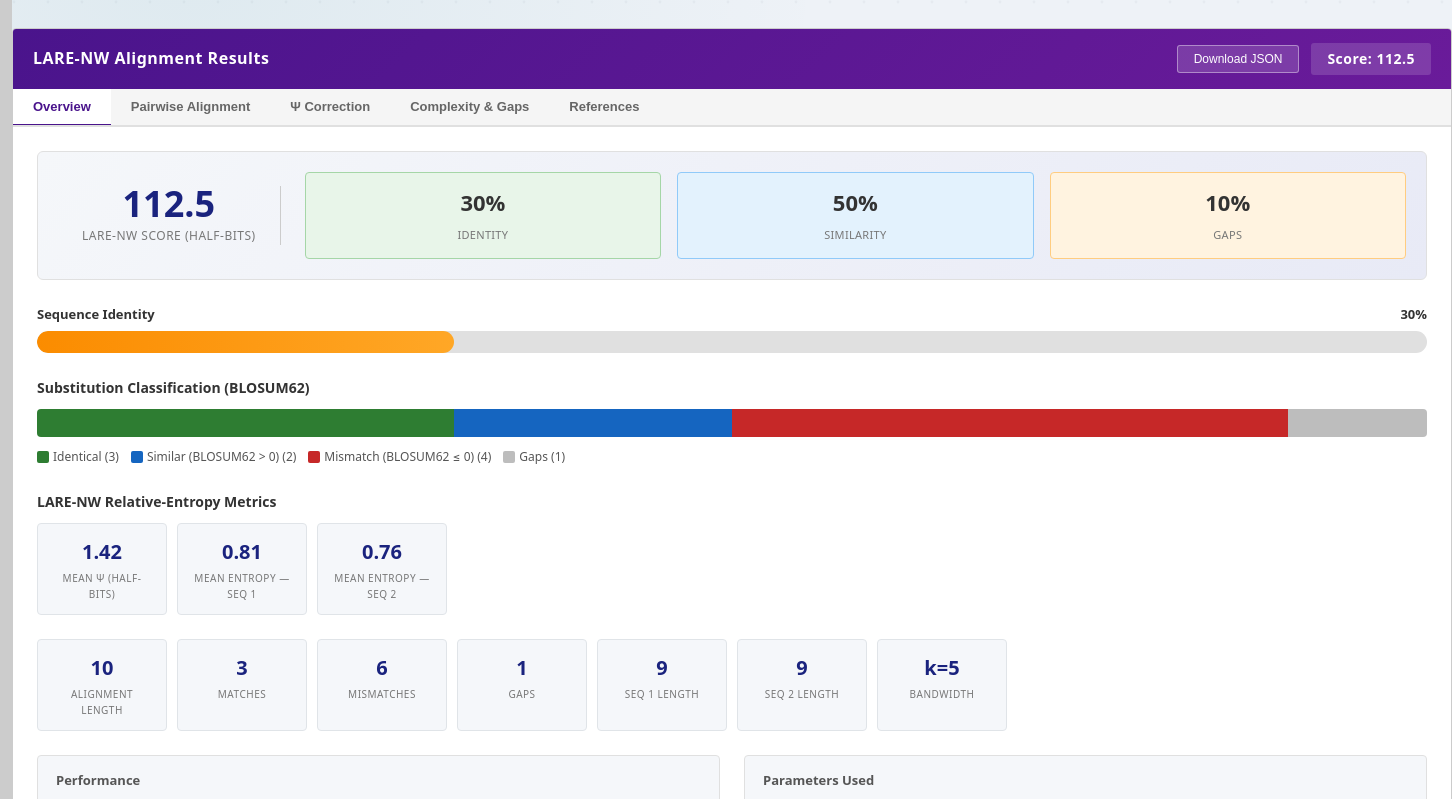
Test: AlignmentResults › switches to the Ψ Correction tab
Step 1. Click the button "Ψ Correction" → (330, 108), box [270,89,390,127]
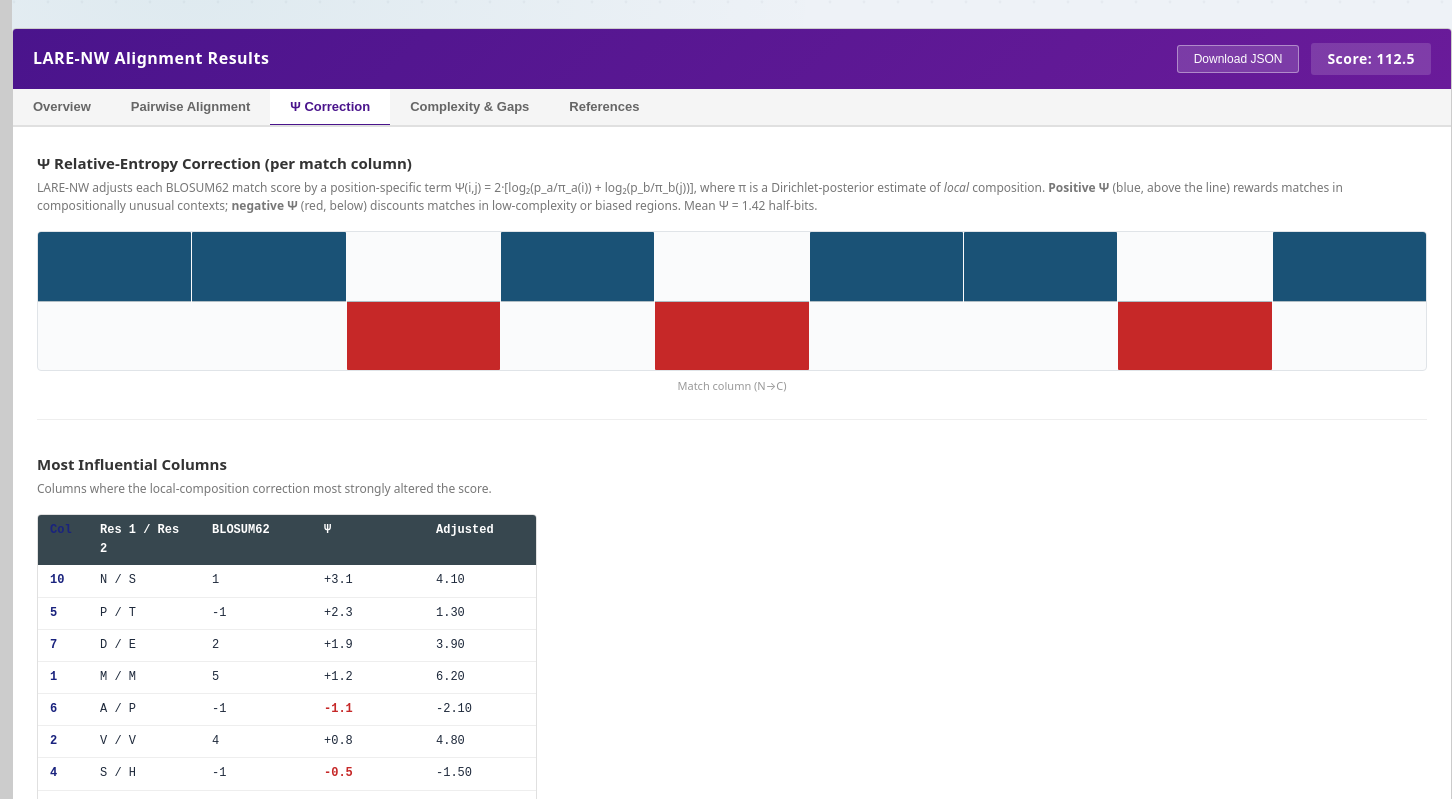
expect the heading "Ψ Relative-Entropy Correction (per match column)" is shown: met, box [37,153,412,173]
expect the heading "Most Influential Columns" is shown: met, box [37,454,227,474]
